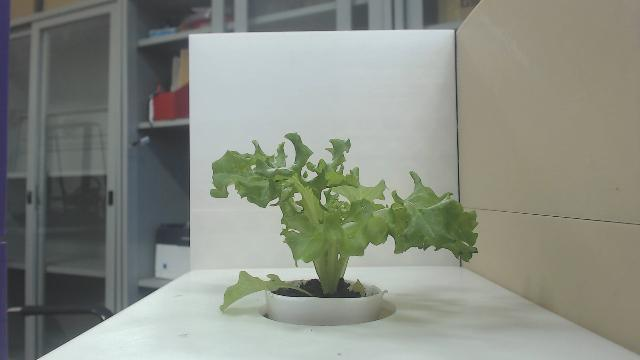Vegetative Stage: (208, 128, 480, 318)
